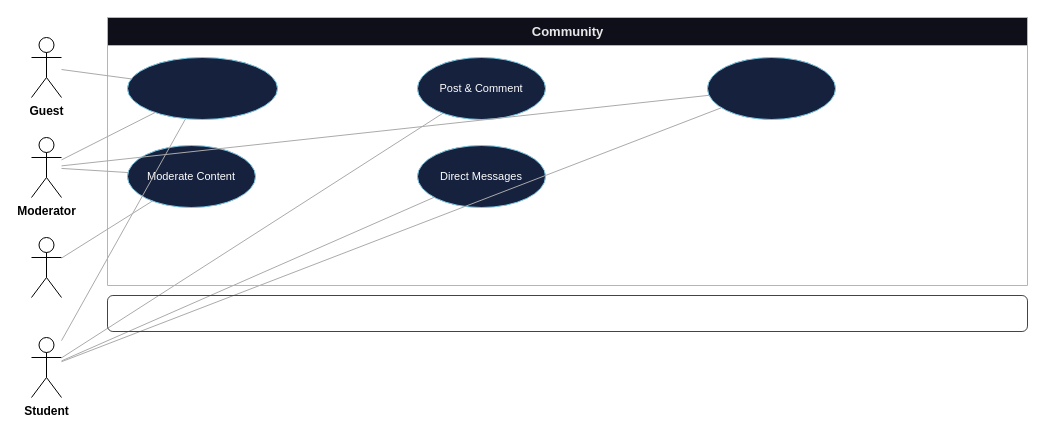
The diagram is 1045 pixels wide and 436 high, and some of its shapes have lost their labels. The shapes that lost their labels are listed below. From the top down, each one's centre as x and y in pixels, then its label:
At (x=202, y=88): "Browse Community / News".
At (x=771, y=88): "Report Content".
At (x=46, y=267): "Admin".
At (x=567, y=313): "Zoom 100–150%. Chỉ hiện actor/UC của tab này — ít đường chéo hơn sơ đồ tổng.".
